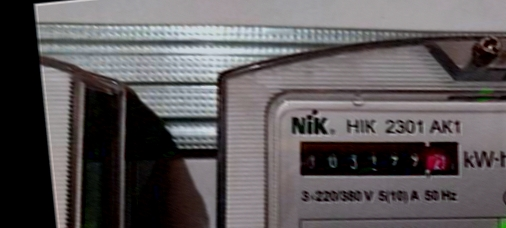0: (302, 150, 317, 170), (325, 149, 338, 169)
1: (367, 146, 378, 166)
3: (346, 151, 357, 171)
6: (430, 156, 442, 173)
9: (407, 150, 419, 168), (387, 148, 398, 166)
screen: (289, 120, 468, 198)
